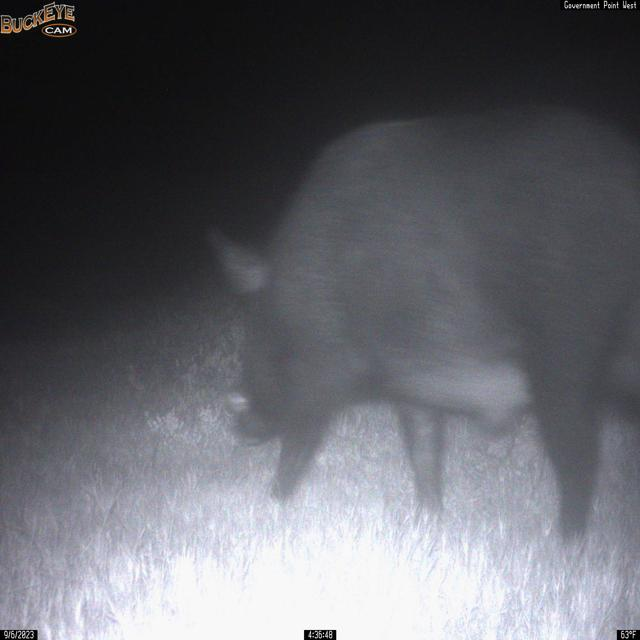pig: (204, 102, 640, 552)
